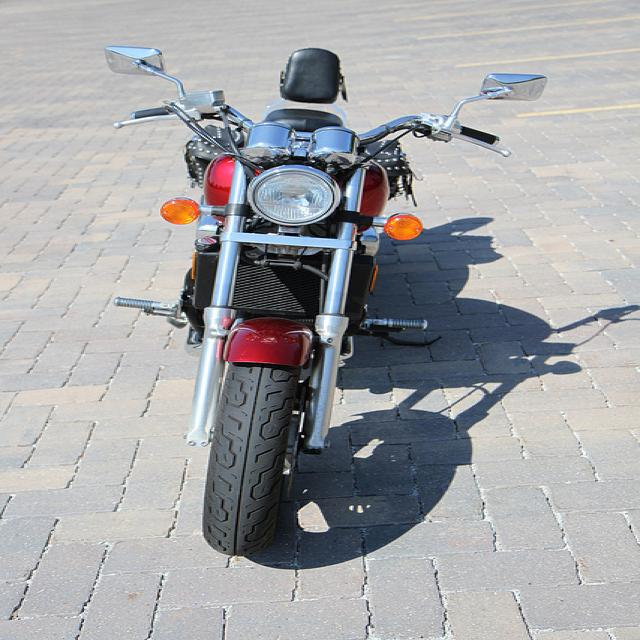motor: (102, 45, 549, 559)
